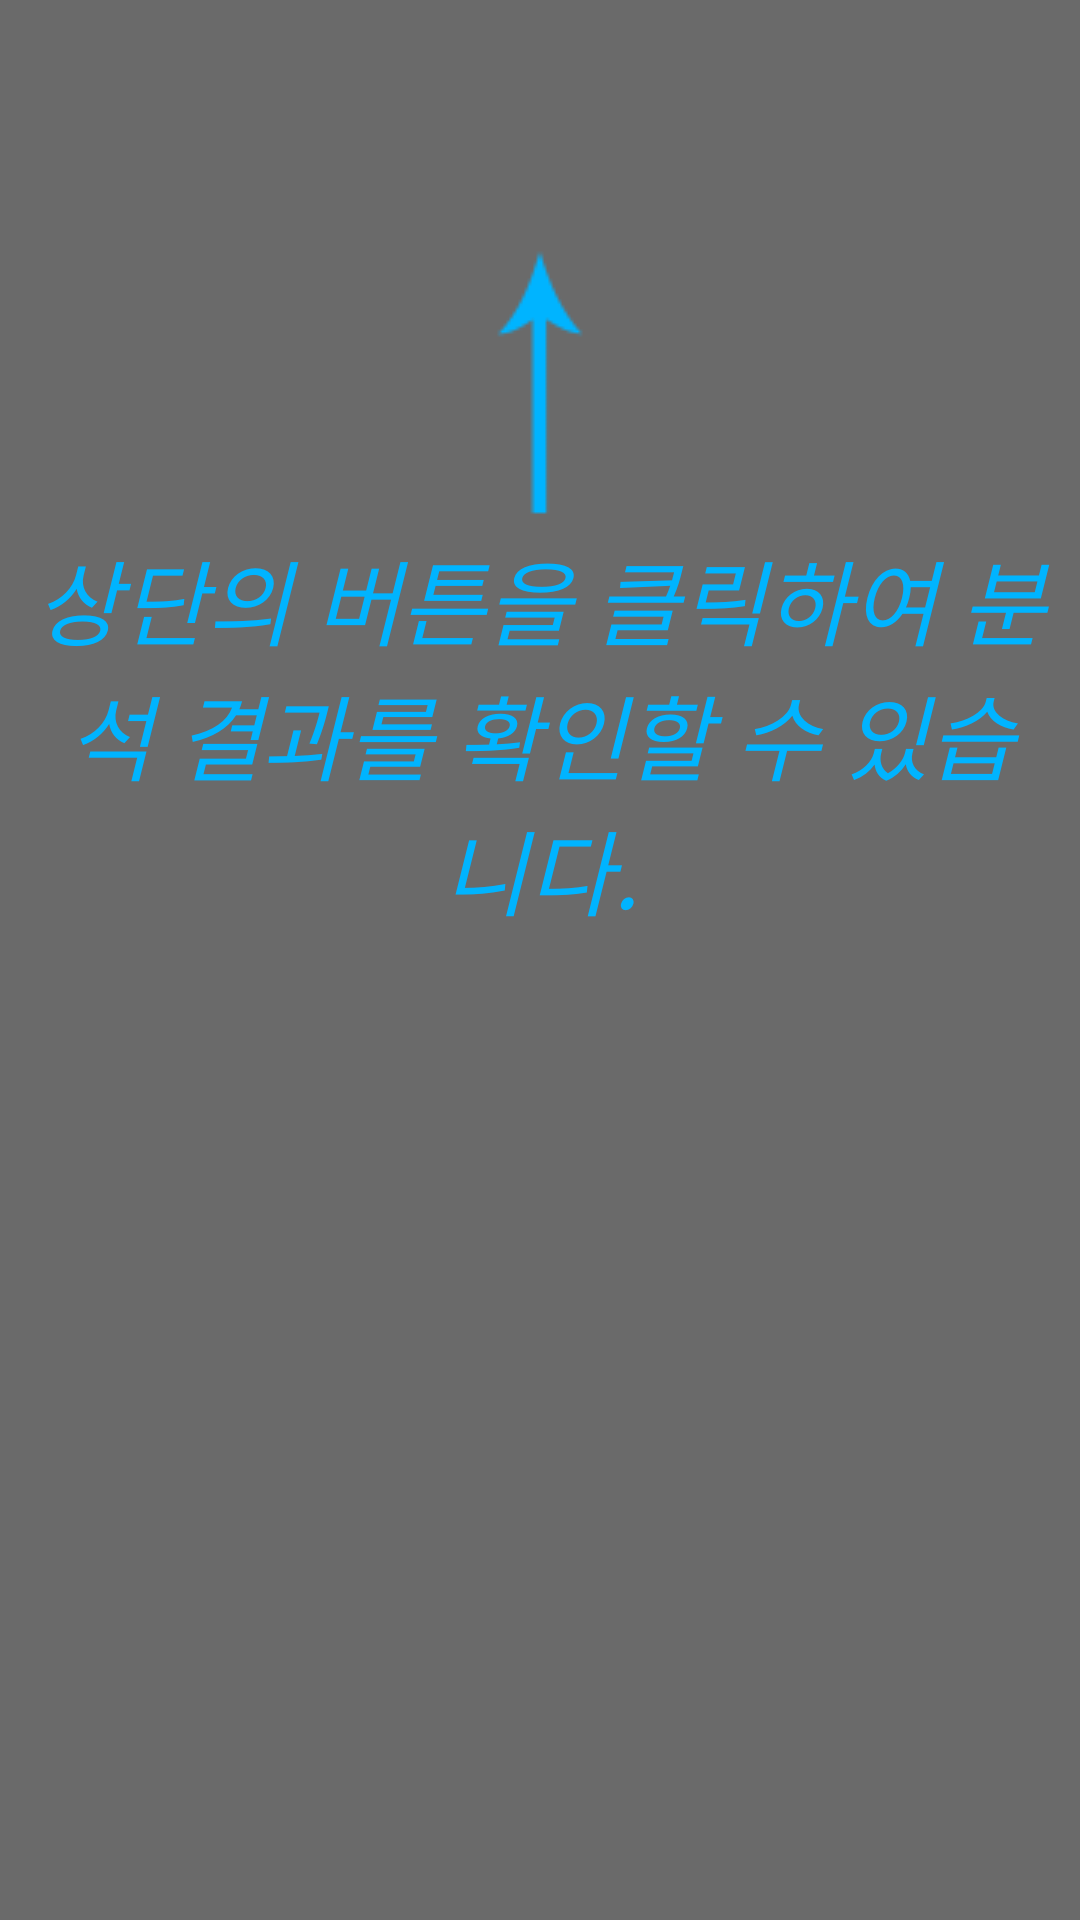

Locate icon controls on the screen. Image size 1080x1920, boxes as (x1, y1, x2, y2).
arrow: (498, 253, 582, 514)
